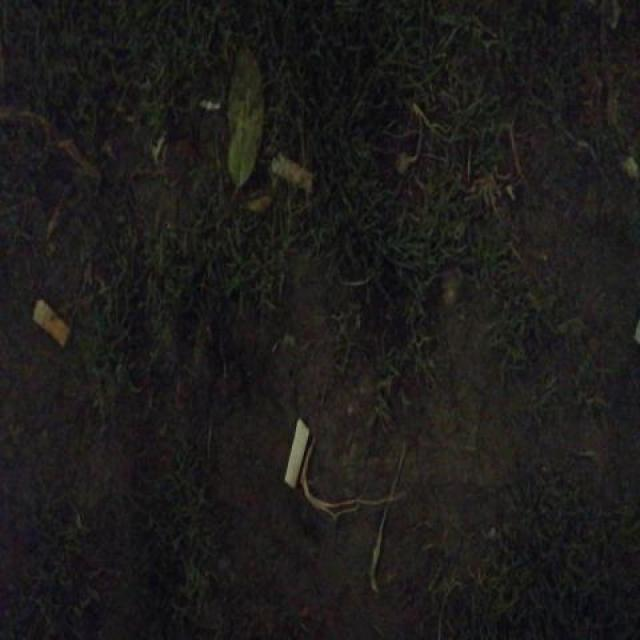non-organic waste: (268, 150, 321, 202), (279, 414, 313, 494), (29, 293, 74, 352)
